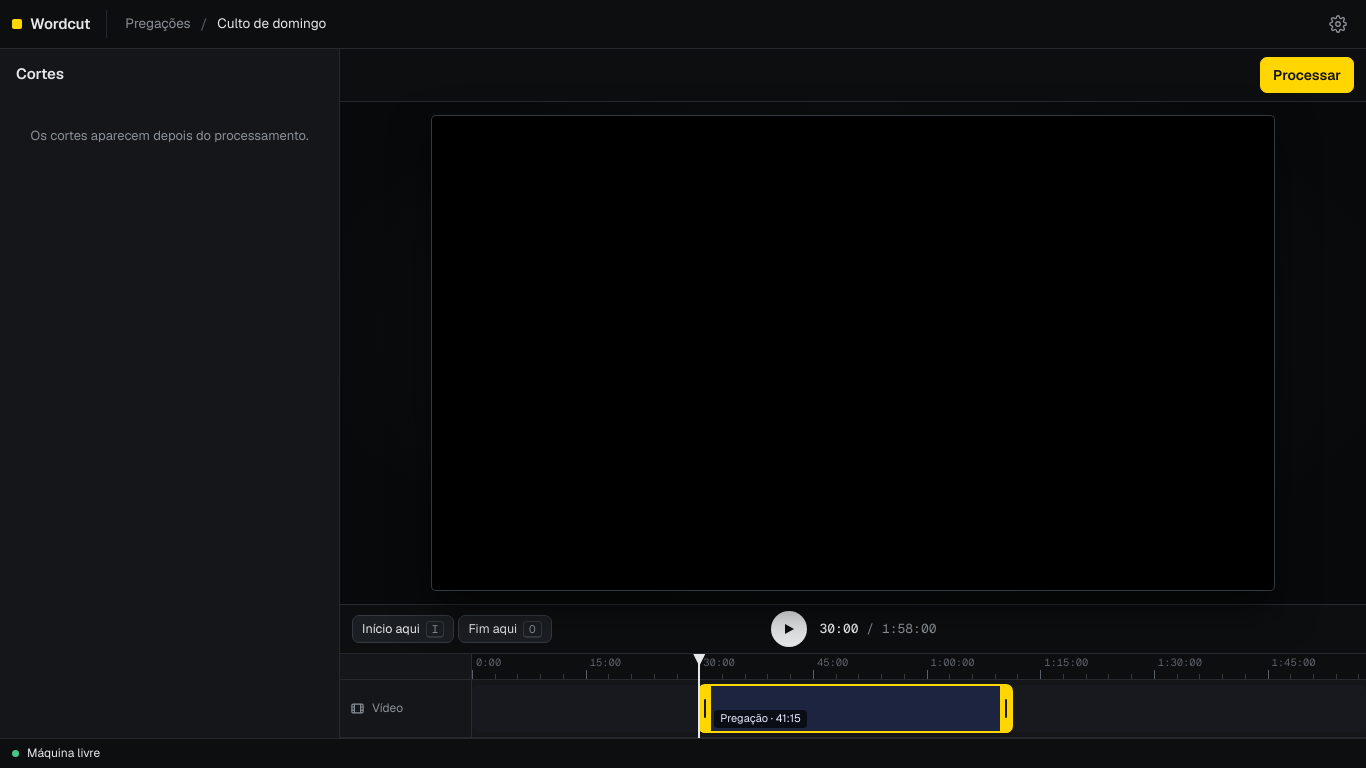
it: shows why the borders were not saved and puts them back: {"status":409,"body":{"error":{"code":"busy","message":"Máquina ocupada: processando a pregação 7."}}}
The image size is (1366, 768).
Press the mouse on the slider named "Início da pregação" at (705, 708), box [699,684,711,732]
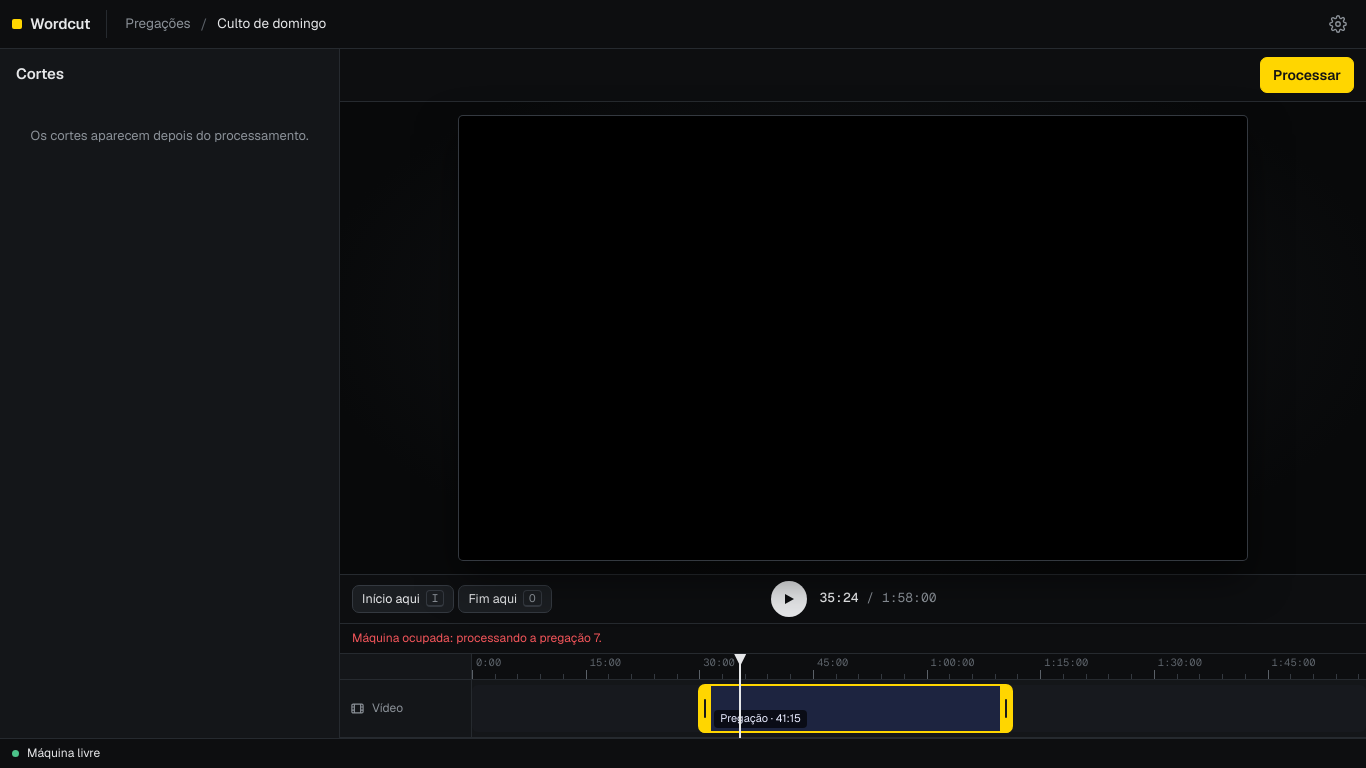
Now the text "Máquina ocupada: processando a pregação 7." is shown, box [340,623,1365,653]
